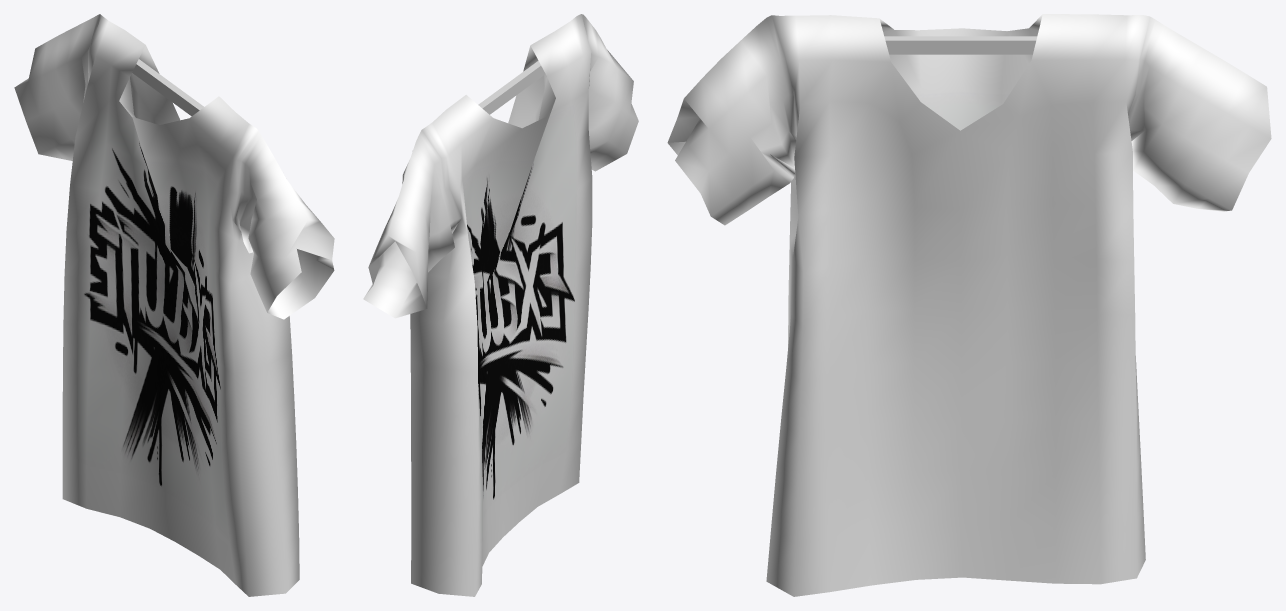
Rendered from clothmodel.glb.
3 views of the same model, side by side, from view 1: azimuth 30°, elevation 25°; view 2: azimuth 150°, elevation 25°; view 3: azimuth 270°, elevation 25° (orthographic). The views are drawn at different scales.
Parts seen in each view (by area): view 1: Cube, Cube.001; view 2: Cube, Cube.001; view 3: Cube, Cube.001.
Boxes of the visible parts, box(x1,y1,x2,y2) form: Cube: box(14, 14, 334, 596); Cube.001: box(132, 59, 203, 116); Cube: box(363, 14, 638, 596); Cube.001: box(478, 61, 545, 114); Cube: box(667, 14, 1271, 596); Cube.001: box(884, 36, 1037, 54).
Bounding box in the file's own units: 0.6406 × 3 × 2.94.
1 material, 1 textured.
